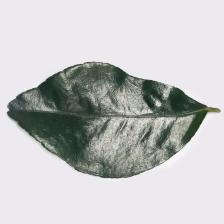healthy: (5, 61, 209, 179)
